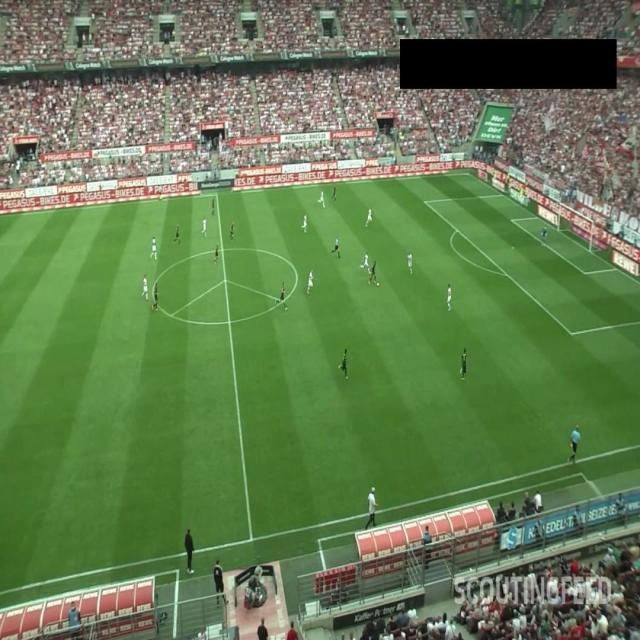ball: (377, 282, 380, 287)
goalkeeper: (541, 223, 549, 248)
player: (275, 281, 288, 313), (338, 348, 349, 380), (460, 347, 468, 380), (368, 261, 378, 286), (151, 282, 159, 312), (141, 274, 149, 301), (150, 236, 158, 261), (307, 269, 314, 295), (360, 251, 369, 270), (174, 224, 181, 246), (318, 191, 327, 208), (447, 283, 452, 311), (407, 252, 413, 275), (366, 208, 373, 227), (202, 216, 208, 237), (211, 196, 217, 217), (230, 221, 236, 241), (302, 214, 308, 233), (331, 186, 337, 203), (214, 244, 219, 263)
referee: (568, 424, 581, 465), (331, 235, 341, 259), (159, 182, 163, 202)
